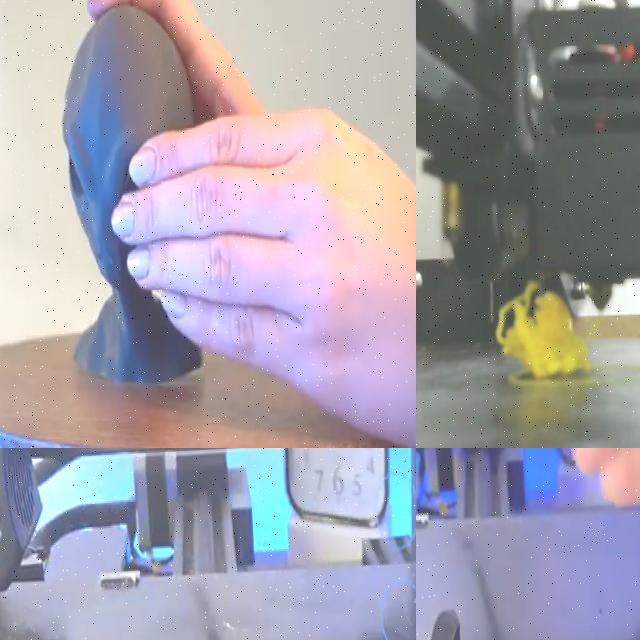spaghetti: (496, 281, 591, 379)
